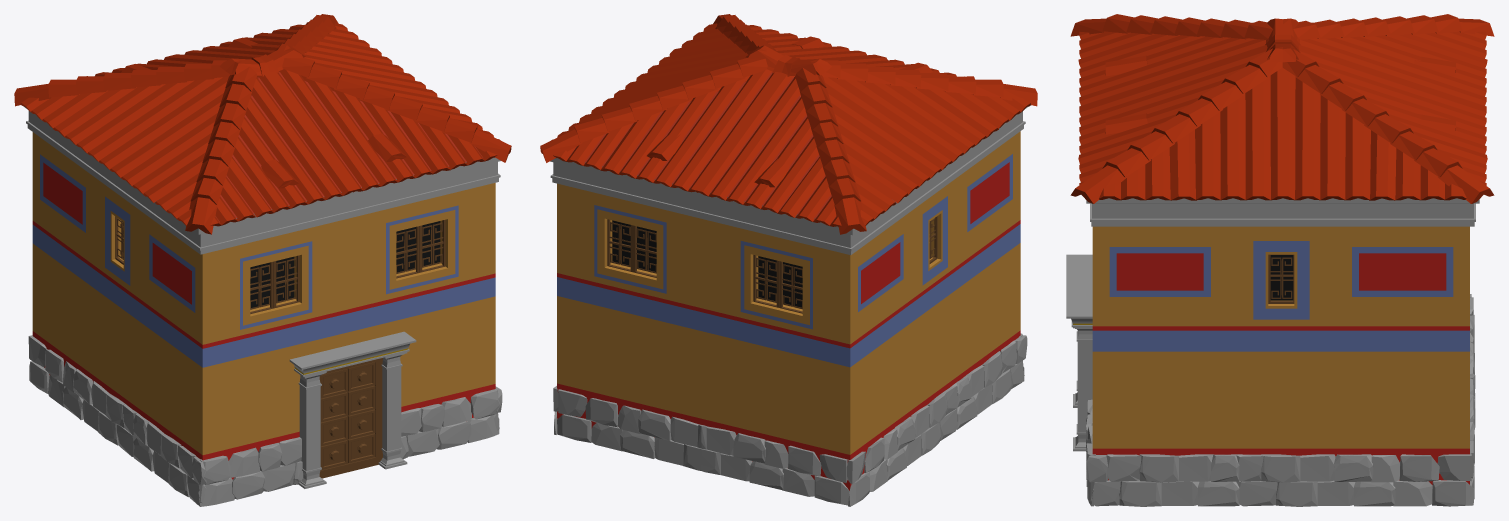
The model's file is SM_villa_roman_03.fbx.
3 views of the same model, side by side, from view 1: azimuth 30°, elevation 25°; view 2: azimuth 150°, elevation 25°; view 3: azimuth 270°, elevation 25° (orthographic). The views are drawn at different scales.
Parts seen in each view (by area): view 1: Object245; view 2: Object245; view 3: Object245.
Part boxes in pixels (bbox=[...]): Object245: bbox=[14, 14, 511, 506]; Object245: bbox=[540, 14, 1037, 506]; Object245: bbox=[1066, 14, 1494, 506].
Bounding box in the file's own units: 330 × 342 × 339.
